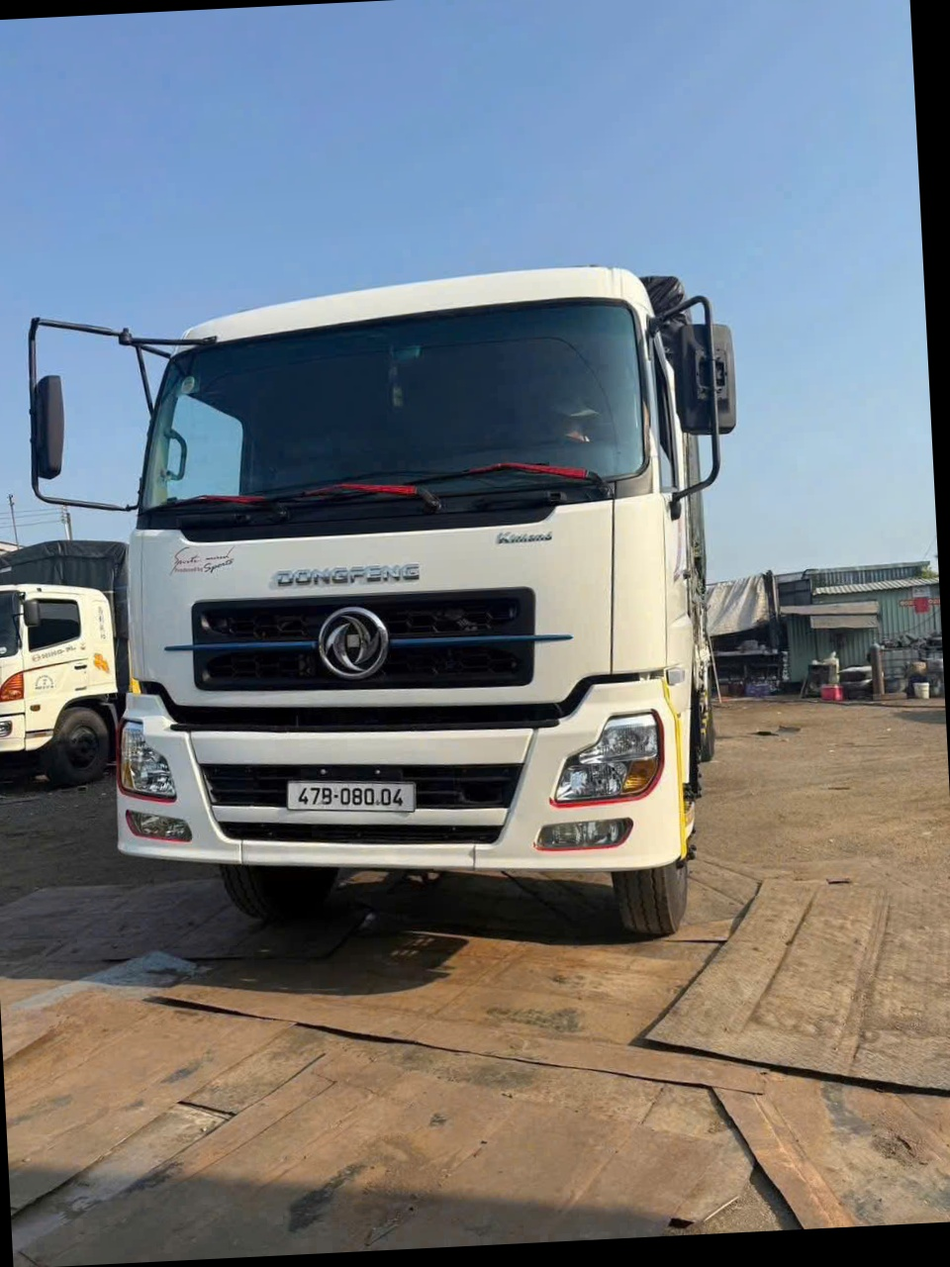Bien-so: (286, 771, 423, 822)
